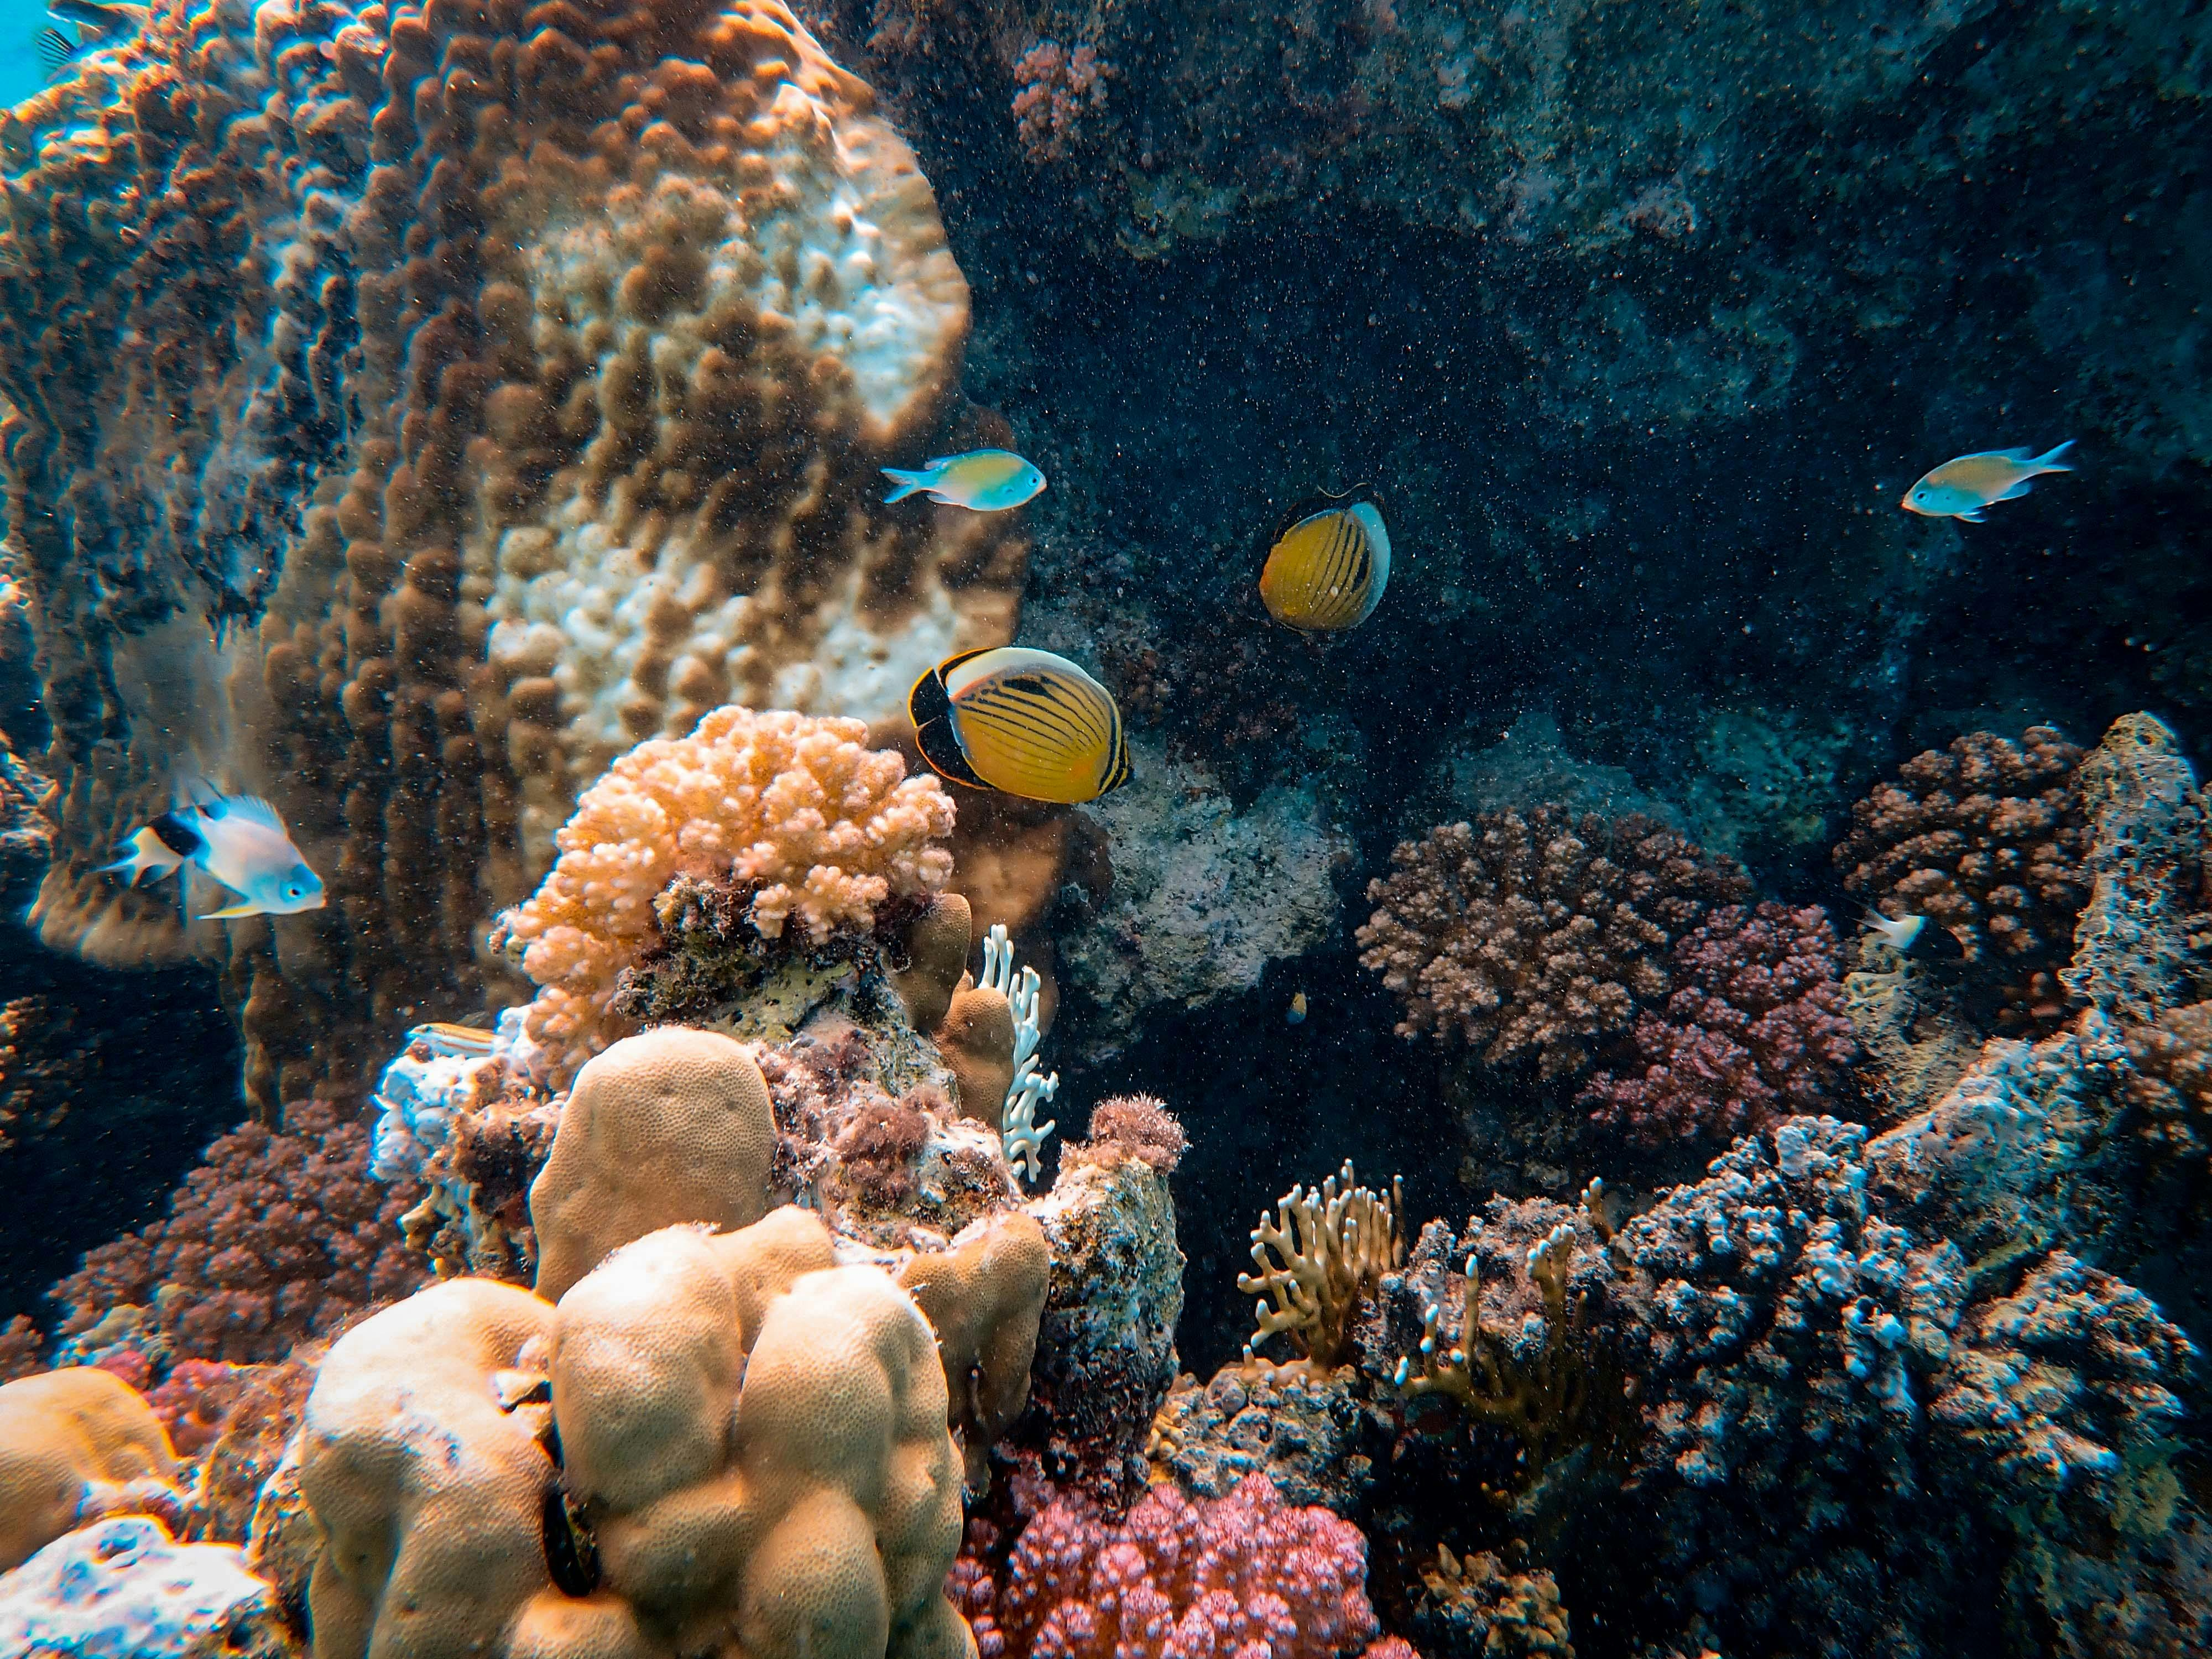fishRound: (906, 641, 1137, 809), (1258, 469, 1395, 664)
fishSmall: (171, 775, 326, 924), (1898, 441, 2083, 530), (876, 446, 1049, 518), (96, 805, 206, 890), (408, 1014, 500, 1058)
